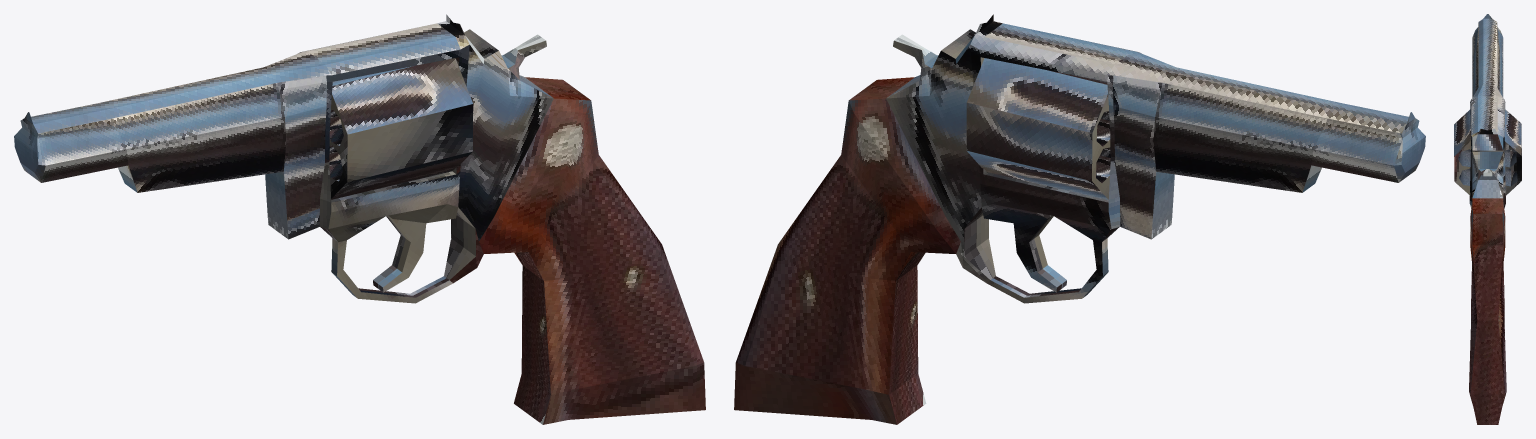
The picture shows the model from 3 angles, left to right: view 1: azimuth 30°, elevation 25°; view 2: azimuth 150°, elevation 25°; view 3: azimuth 270°, elevation 25°; orthographic projection. The views are drawn at different scales.
Visible parts, largest first — view 1: model19, cylinder, trigger; view 2: model19, cylinder, trigger; view 3: model19, cylinder.
Boxes of the visible parts, <box> form: model19: <box>14,14,705,424</box>; cylinder: <box>329,58,473,199</box>; trigger: <box>373,204,458,292</box>; model19: <box>734,14,1425,424</box>; cylinder: <box>966,58,1110,200</box>; trigger: <box>981,204,1066,292</box>; model19: <box>1469,14,1506,424</box>; cylinder: <box>1454,109,1521,195</box>.
Size of the model in its own units: 4.59 by 2.97 by 0.7614.
1 material, 1 textured.
